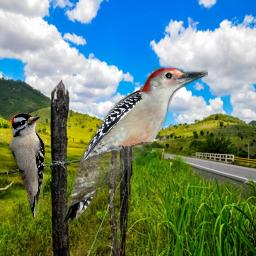Woodpecker: (62, 66, 208, 225), (7, 113, 45, 219)
